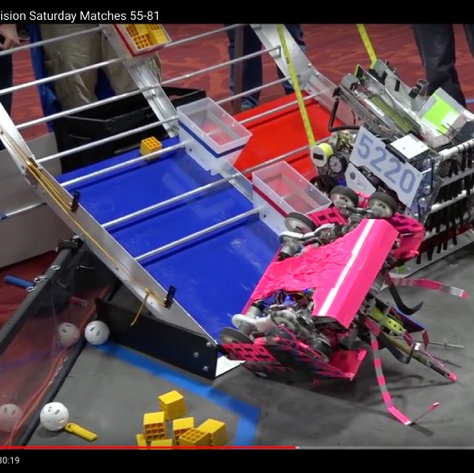robot: (228, 189, 464, 421), (313, 60, 474, 264)
